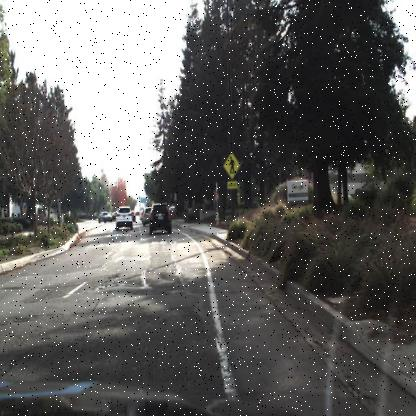car: (149, 201, 173, 236), (115, 204, 134, 231), (141, 205, 155, 226), (98, 210, 112, 224)
